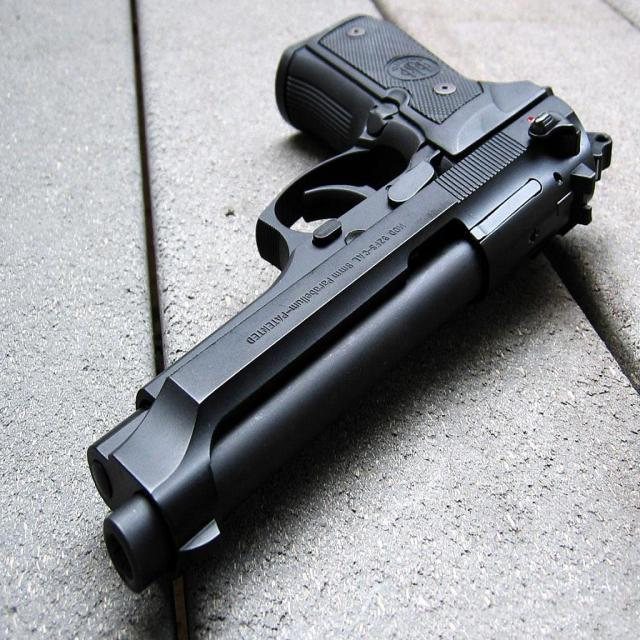Gun: (89, 16, 610, 591)
